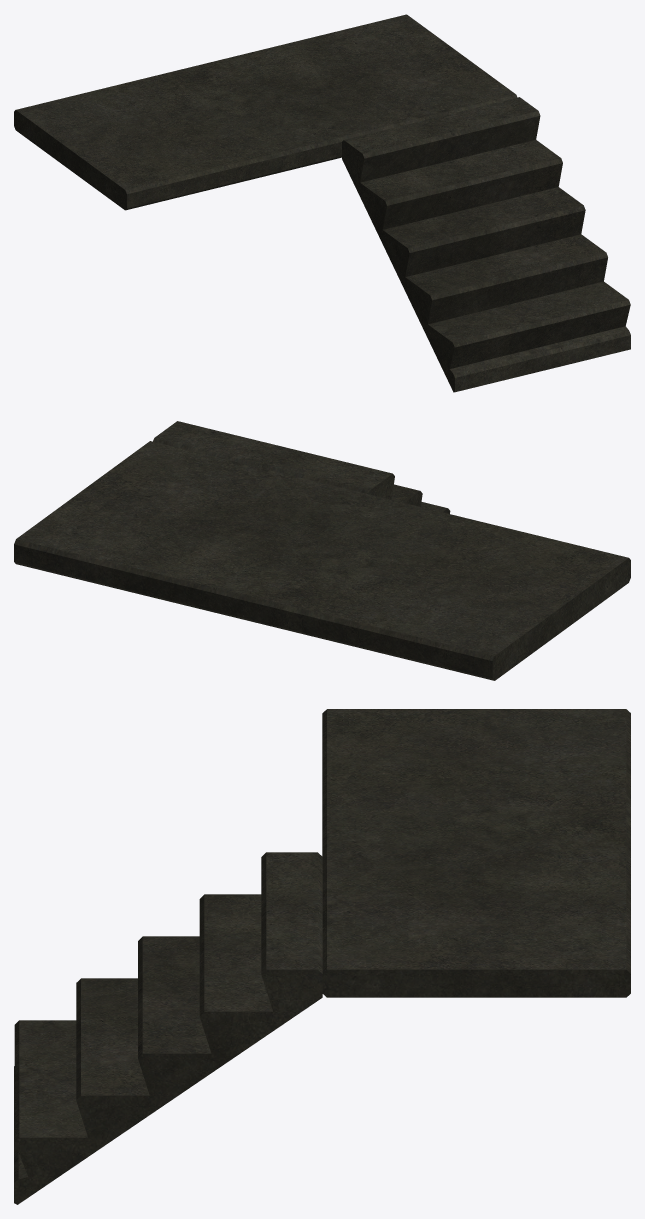
The model's file is stairs_1.fbx.
3 views of the same model, one above another, from view 1: azimuth 30°, elevation 25°; view 2: azimuth 150°, elevation 25°; view 3: azimuth 270°, elevation 25° (orthographic). The views are drawn at different scales.
Parts seen in each view (by area): view 1: stairs_1; view 2: stairs_1; view 3: stairs_1.
Boxes of the visible parts, x1,y1,x2,y2 form: stairs_1: (14, 14, 630, 392); stairs_1: (14, 421, 630, 680); stairs_1: (14, 709, 630, 1204).
Size of the model in its own units: 4 by 4 by 1.68.
